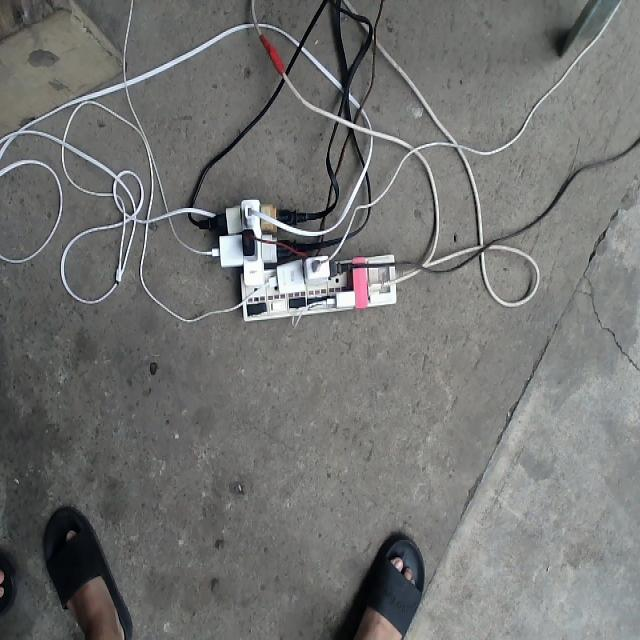-: (205, 196, 400, 324)
